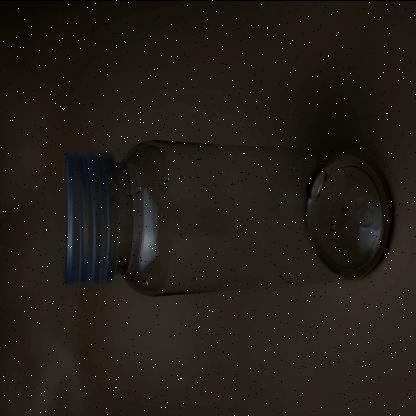Plastic Bottle: (63, 140, 393, 296)
